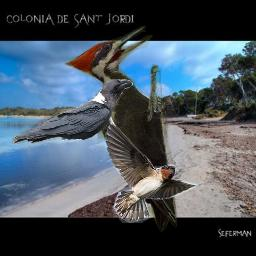Crow: (12, 79, 133, 144)
Swallow: (104, 121, 204, 223)
Woodpecker: (64, 26, 177, 232)
